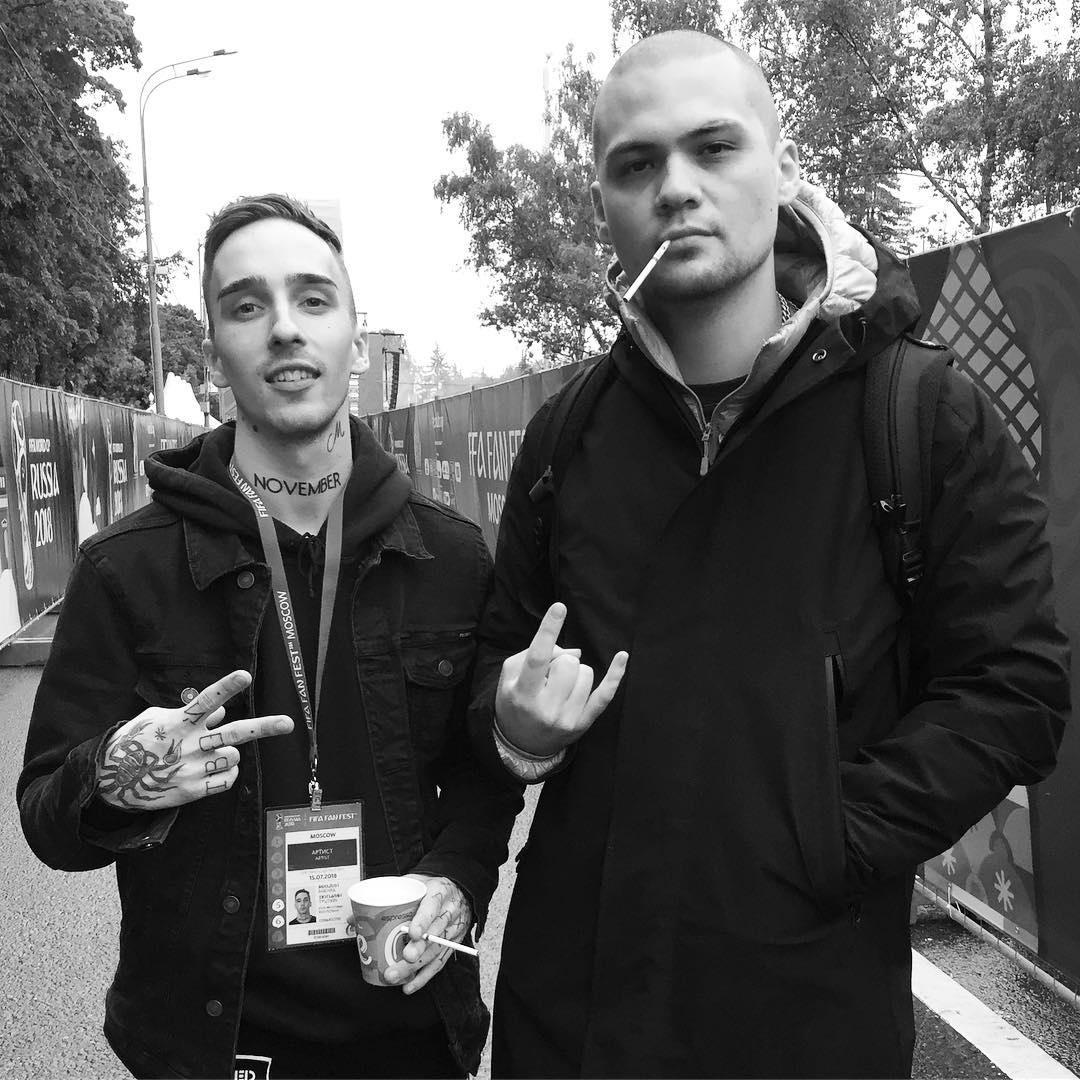cigarette: (623, 240, 671, 304), (400, 926, 480, 957)
